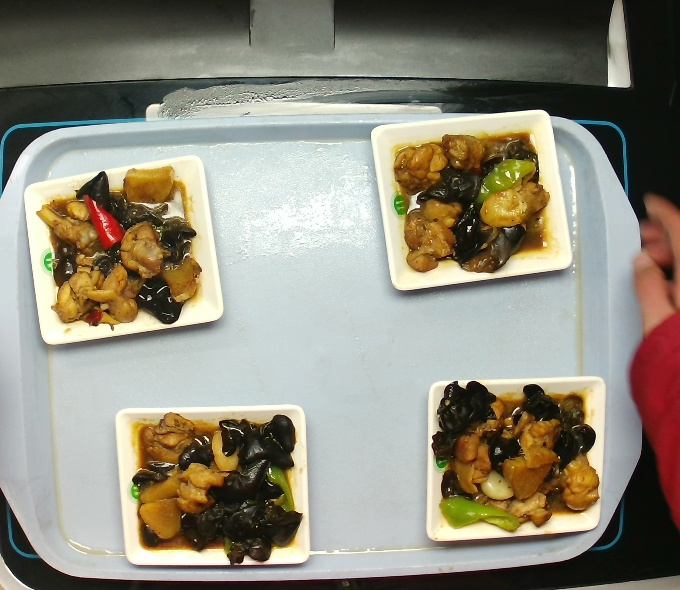wcq-MuErJiRou: (31, 155, 206, 335), (389, 119, 558, 276), (132, 404, 297, 562), (433, 379, 592, 533)
